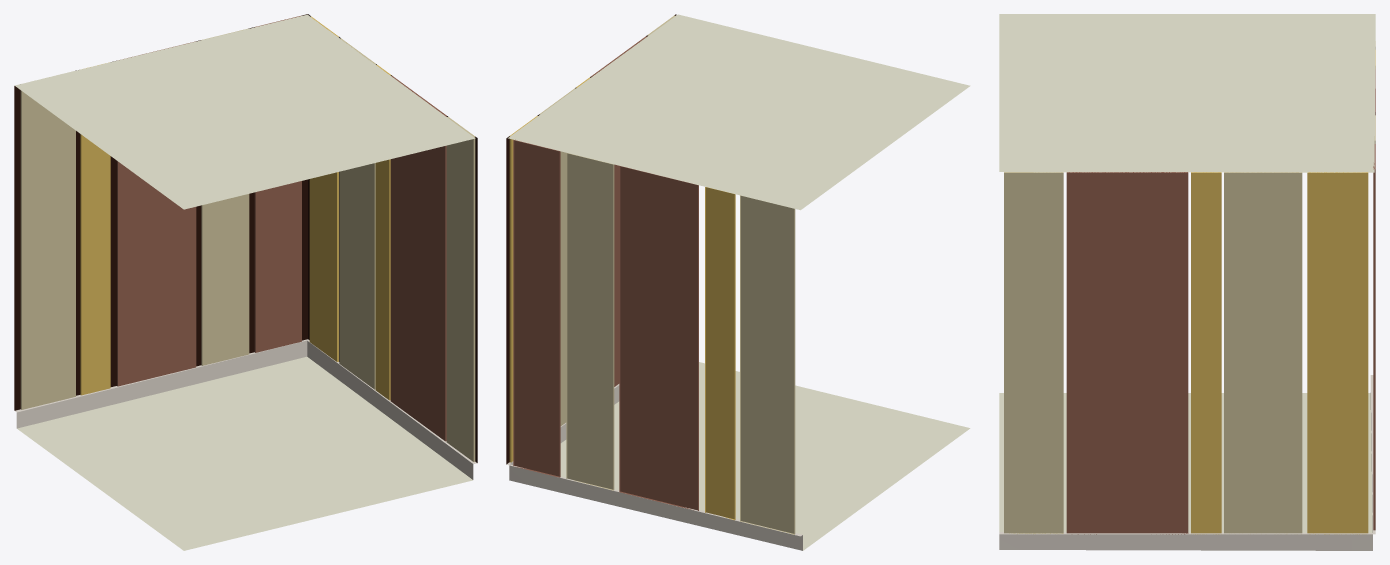
The model's file is Room Corner (Untextured).fbx.
3 renders of one model, left to right at view 1: azimuth 30°, elevation 25°; view 2: azimuth 150°, elevation 25°; view 3: azimuth 270°, elevation 25°, orthographic. The views are drawn at different scales.
Visible parts, largest first — view 1: roomCorner9; view 2: roomCorner9; view 3: roomCorner9.
Boxes of the visible parts, x1,y1,x2,y2 form: roomCorner9: (14,14,477,550); roomCorner9: (506,14,970,550); roomCorner9: (999,14,1375,550).
Size of the model in its own units: 337 by 375 by 338.
